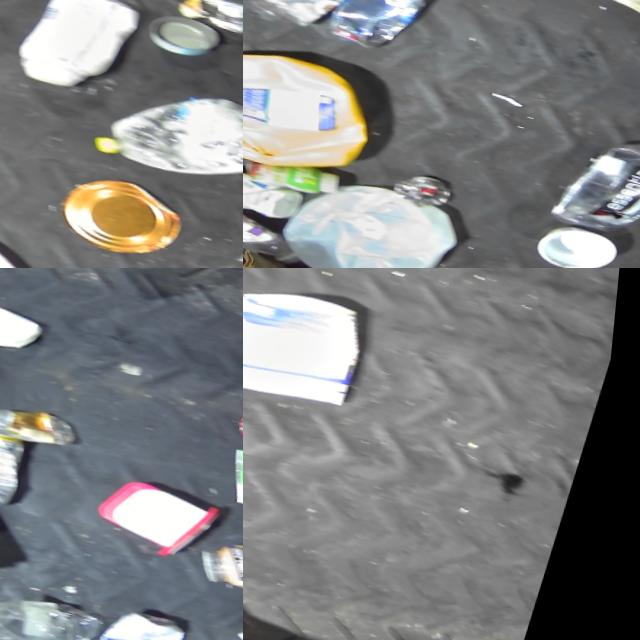can: (137, 5, 239, 65), (327, 0, 430, 54), (99, 604, 200, 640), (172, 0, 243, 45), (0, 420, 35, 510)
non_white_jug: (243, 27, 394, 181), (285, 169, 476, 268)
plastic_bottle: (95, 76, 243, 193), (558, 114, 640, 243), (243, 0, 381, 37)
